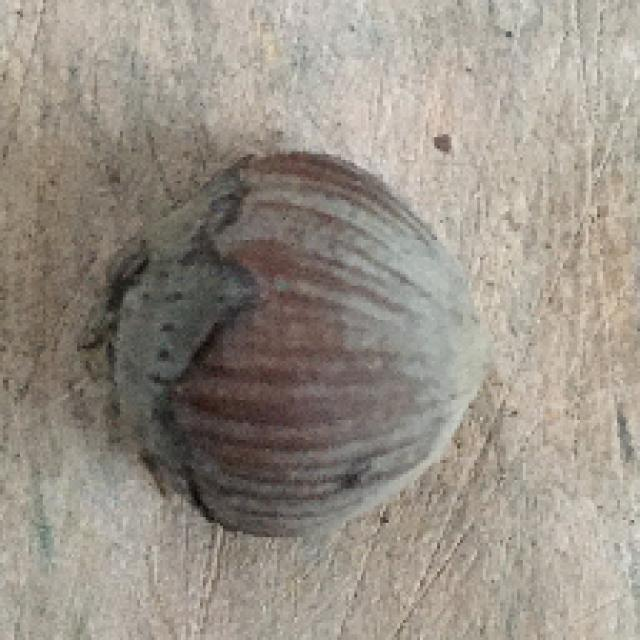DamagedHazelnut: (85, 145, 489, 543)
